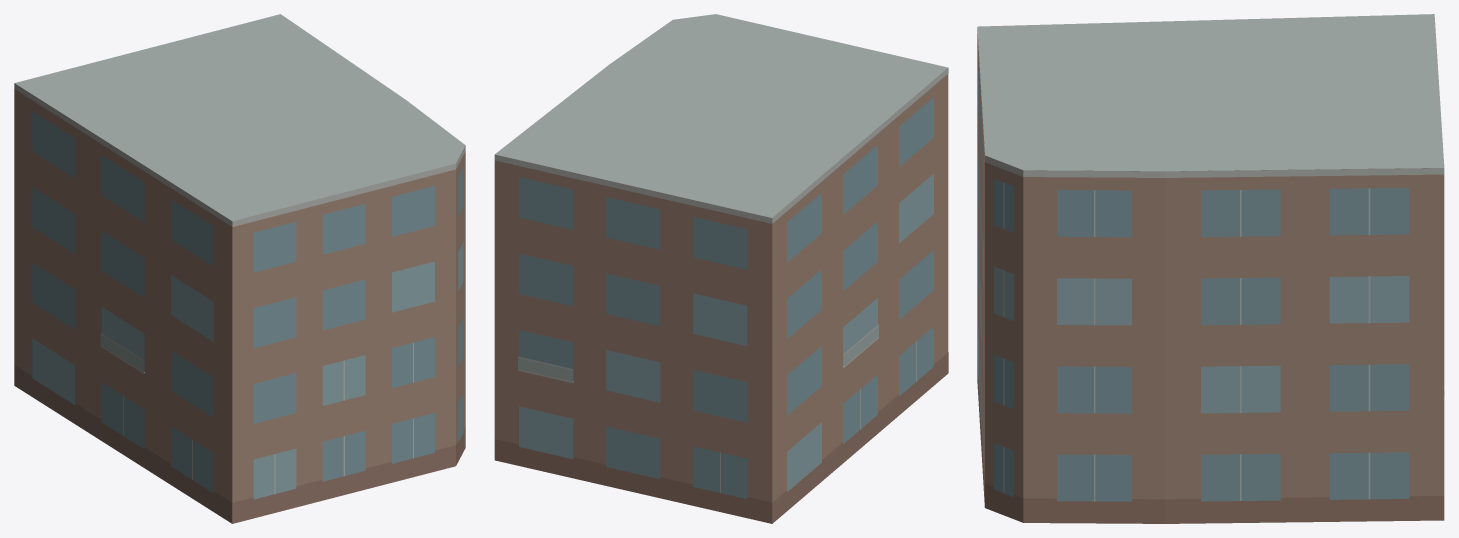
File: survey-upis-32934979.glb
The picture shows the model from 3 angles, left to right: view 1: azimuth 30°, elevation 25°; view 2: azimuth 150°, elevation 25°; view 3: azimuth 270°, elevation 25°; orthographic projection. The views are drawn at different scales.
Parts seen in each view (by area): view 1: survey-upis-32934979.tmp; view 2: survey-upis-32934979.tmp; view 3: survey-upis-32934979.tmp.
Boxes of the visible parts, box(x1,y1,x2,y2) form: survey-upis-32934979.tmp: box(14, 14, 465, 523); survey-upis-32934979.tmp: box(494, 14, 948, 523); survey-upis-32934979.tmp: box(977, 14, 1444, 523).
Bounding box in the file's own units: 12.26 × 12.8 × 15.38.
